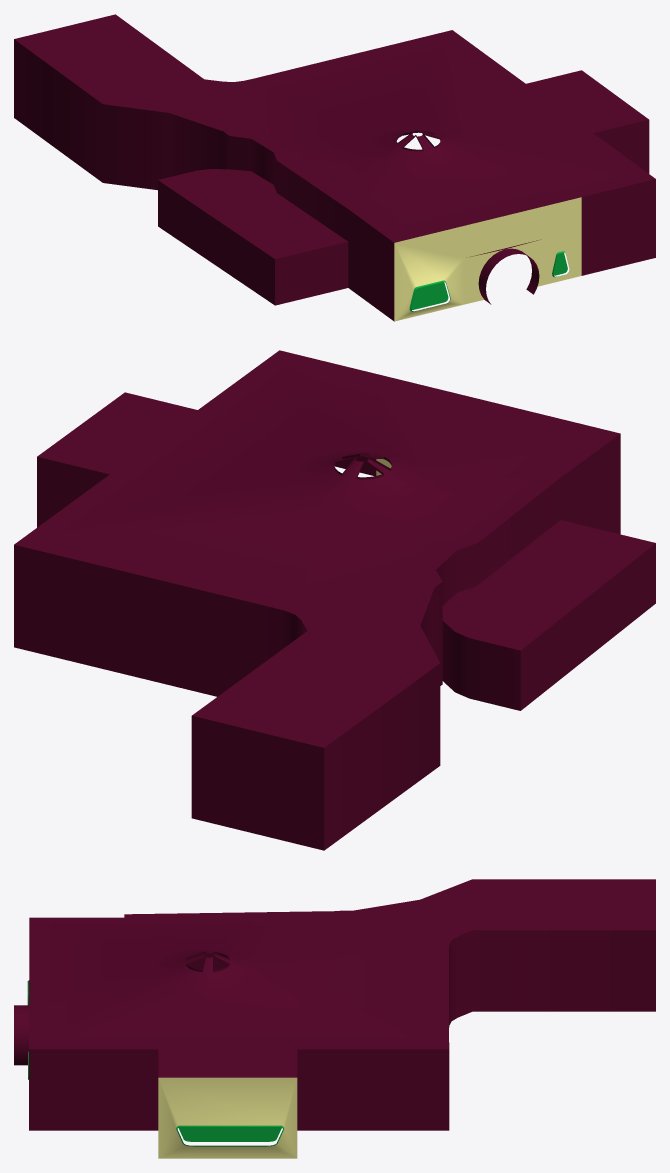
File: BunkerShadow.FBX
The picture shows the model from 3 angles, top to bottom: view 1: azimuth 30°, elevation 25°; view 2: azimuth 150°, elevation 25°; view 3: azimuth 270°, elevation 25°; orthographic projection. The views are drawn at different scales.
Parts seen in each view (by area): view 1: BunkerShadow, WindowsShadow; view 2: BunkerShadow; view 3: BunkerShadow, WindowsShadow.
Part boxes in pixels (left/top/right/bottom): BunkerShadow: left=14, top=14, right=655, bottom=321; WindowsShadow: left=411, top=252, right=567, bottom=309; BunkerShadow: left=14, top=350, right=655, bottom=850; BunkerShadow: left=14, top=879, right=655, bottom=1158; WindowsShadow: left=178, top=1127, right=281, bottom=1141.
Bounding box in the file's own units: 293 × 69.15 × 397.
